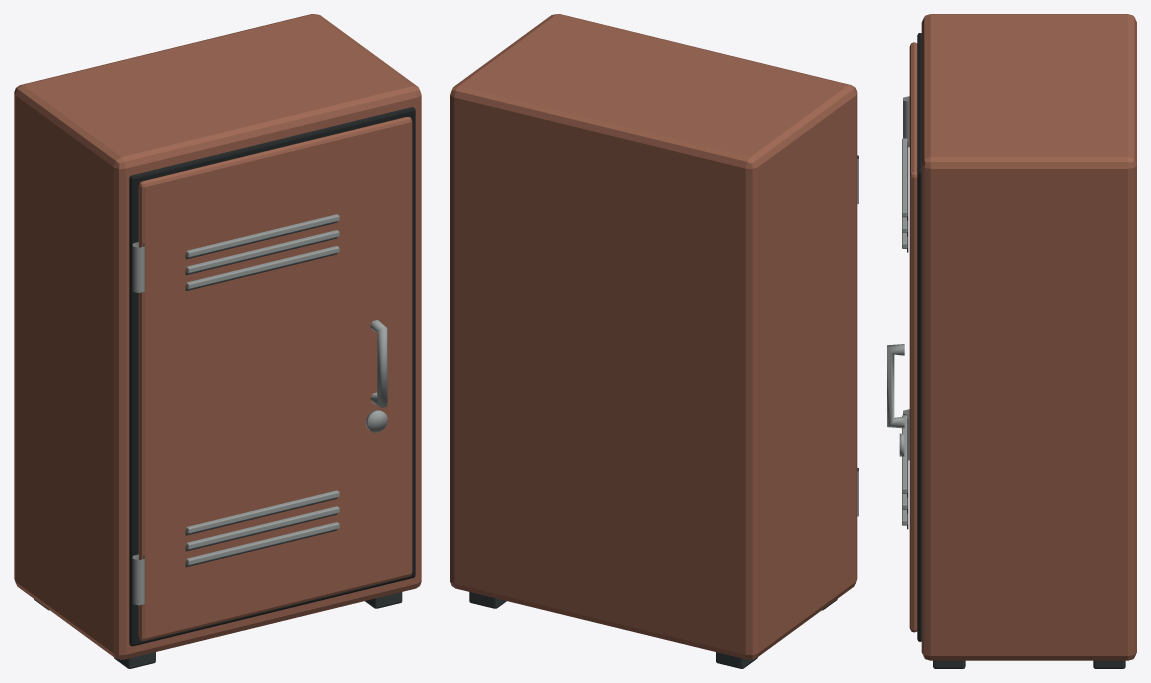
Rendered from supply_locker.glb.
The picture shows the model from 3 angles, left to right: view 1: azimuth 30°, elevation 25°; view 2: azimuth 150°, elevation 25°; view 3: azimuth 270°, elevation 25°; orthographic projection.
Parts seen in each view (by area): view 1: supply_locker; view 2: supply_locker; view 3: supply_locker.
Boxes of the visible parts, x1=… form: supply_locker: x1=14, y1=14, x2=421, y2=668; supply_locker: x1=450, y1=14, x2=858, y2=668; supply_locker: x1=887, y1=14, x2=1136, y2=668.
Bounding box in the file's own units: 0.71 × 1.14 × 0.4993.
